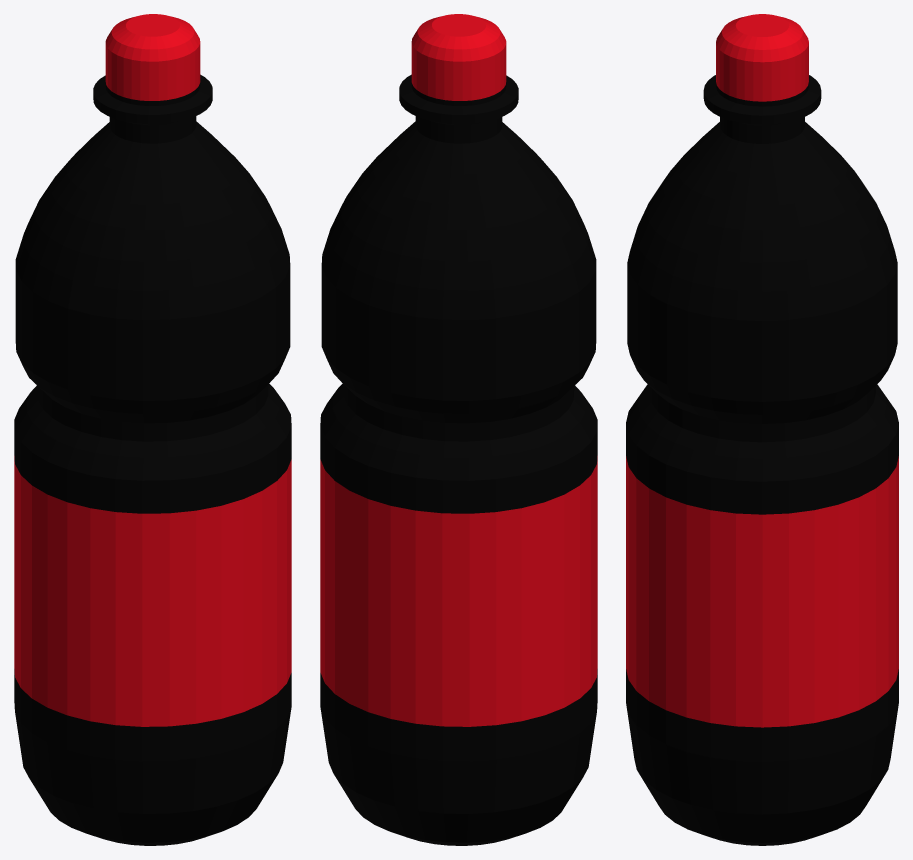
Rendered from Coca_Bottle.fbx.
3 renders of one model, left to right at view 1: azimuth 30°, elevation 25°; view 2: azimuth 150°, elevation 25°; view 3: azimuth 270°, elevation 25°, orthographic.
Visible parts, largest first — view 1: Coca_Bottle; view 2: Coca_Bottle; view 3: Coca_Bottle.
Part boxes in pixels (x1,y1,x2,y2): Coca_Bottle: (14,14,291,845); Coca_Bottle: (320,14,597,845); Coca_Bottle: (626,14,898,845).
Size of the model in its own units: 77.4 by 240 by 75.58.
